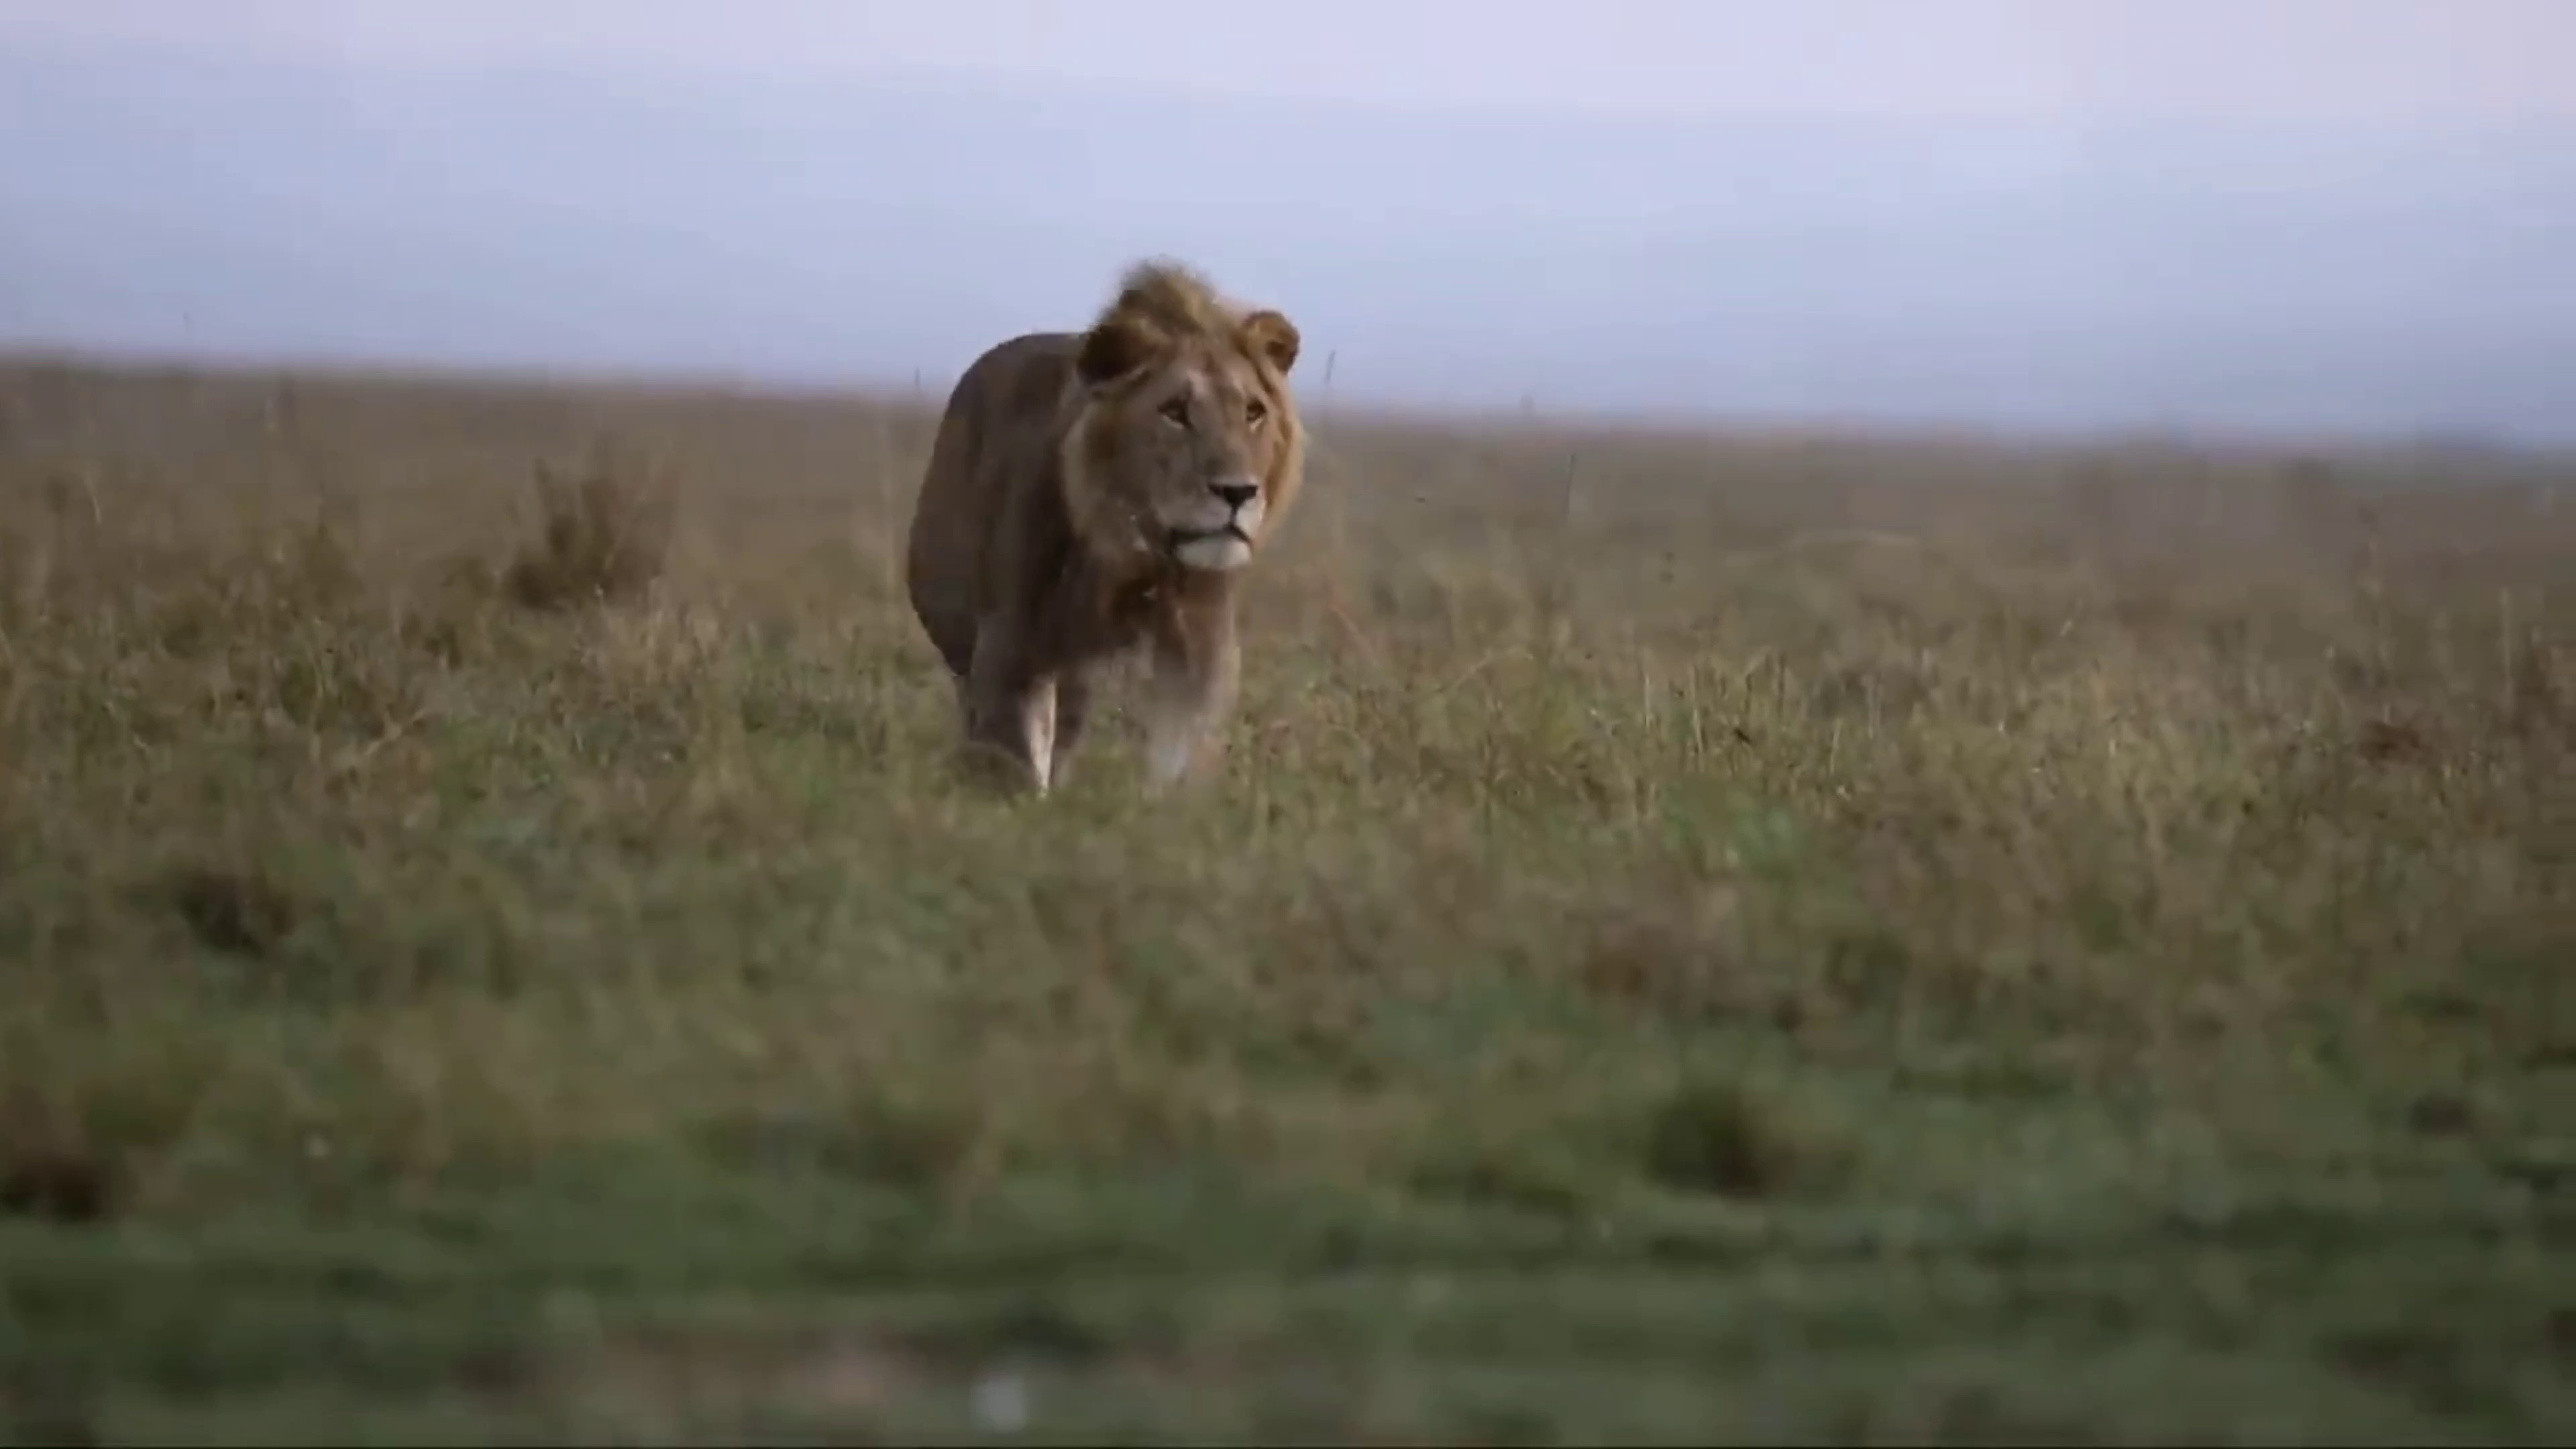Lion: (909, 258, 1306, 798)
